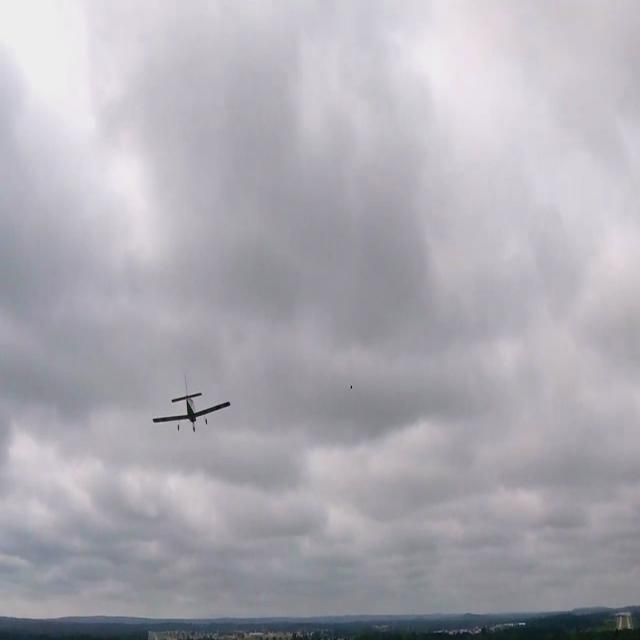iha: (181, 406, 204, 410)
